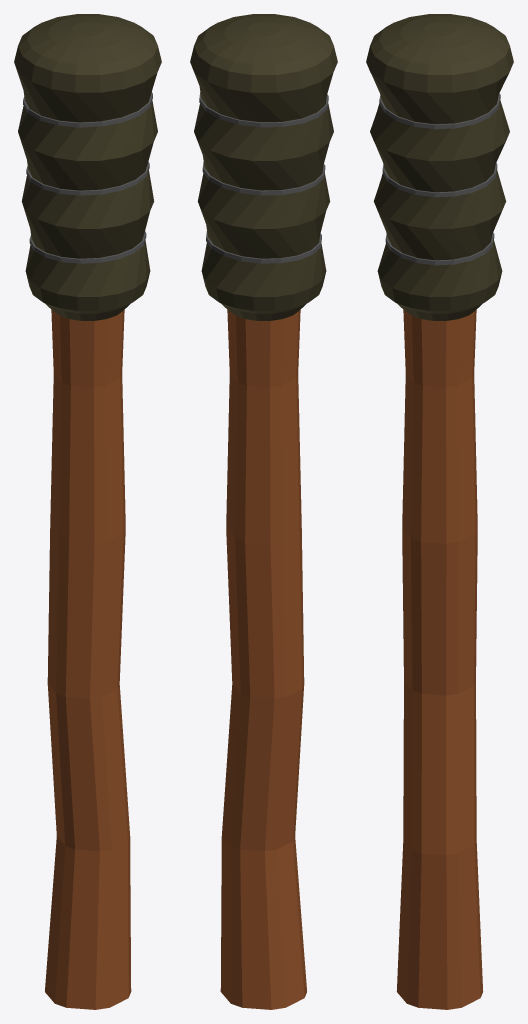
Rendered from Torch1.fbx.
3 views of the same model, side by side, from view 1: azimuth 30°, elevation 25°; view 2: azimuth 150°, elevation 25°; view 3: azimuth 270°, elevation 25° (orthographic).
Parts seen in each view (by area): view 1: Torch1; view 2: Torch1; view 3: Torch1.
Boxes of the visible parts, x1,y1,x2,y2 form: Torch1: (14,14,161,1009); Torch1: (190,14,337,1009); Torch1: (366,14,513,1009).
Size of the model in its own units: 8.66 by 63.15 by 8.79.
